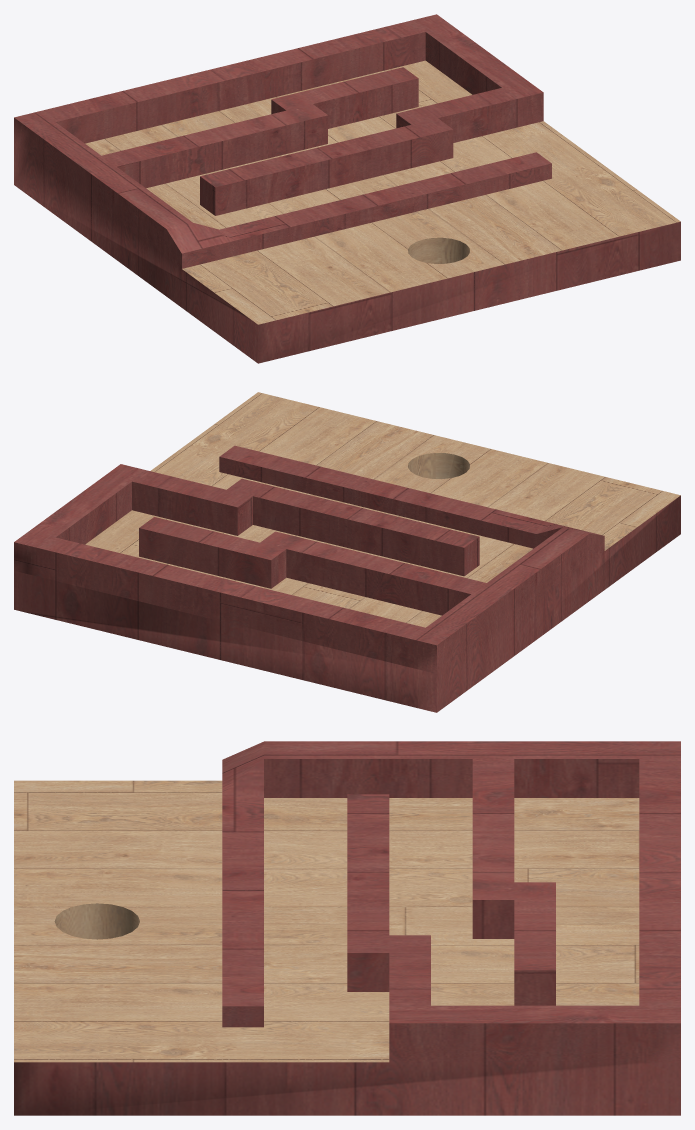
File: Plate 6.fbx
3 views of the same model, one above another, from view 1: azimuth 30°, elevation 25°; view 2: azimuth 150°, elevation 25°; view 3: azimuth 270°, elevation 25° (orthographic). The views are drawn at different scales.
Parts seen in each view (by area): view 1: polySurface1; view 2: polySurface1; view 3: polySurface1.
Part boxes in pixels (x1,y1,x2,y2): polySurface1: (14,14,680,363); polySurface1: (14,392,680,712); polySurface1: (14,741,680,1115).
Size of the model in its own units: 34.58 by 5.28 by 34.58.
Materials: 1 (1 with a texture image).
